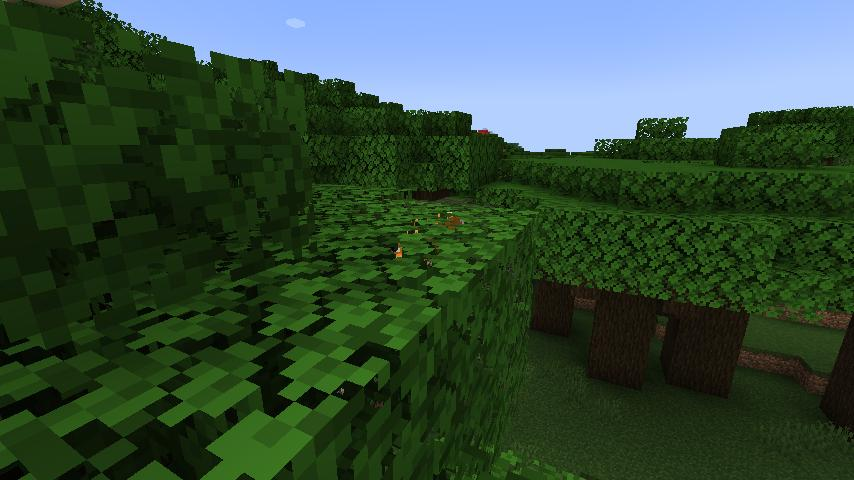fox: (389, 207, 474, 272)
